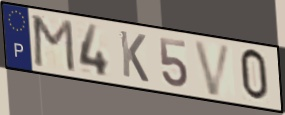0: (237, 47, 271, 106)
4: (76, 21, 113, 79)
5: (157, 35, 190, 89)
K: (117, 28, 151, 85)
M: (32, 14, 77, 75)
V: (191, 38, 234, 98)
